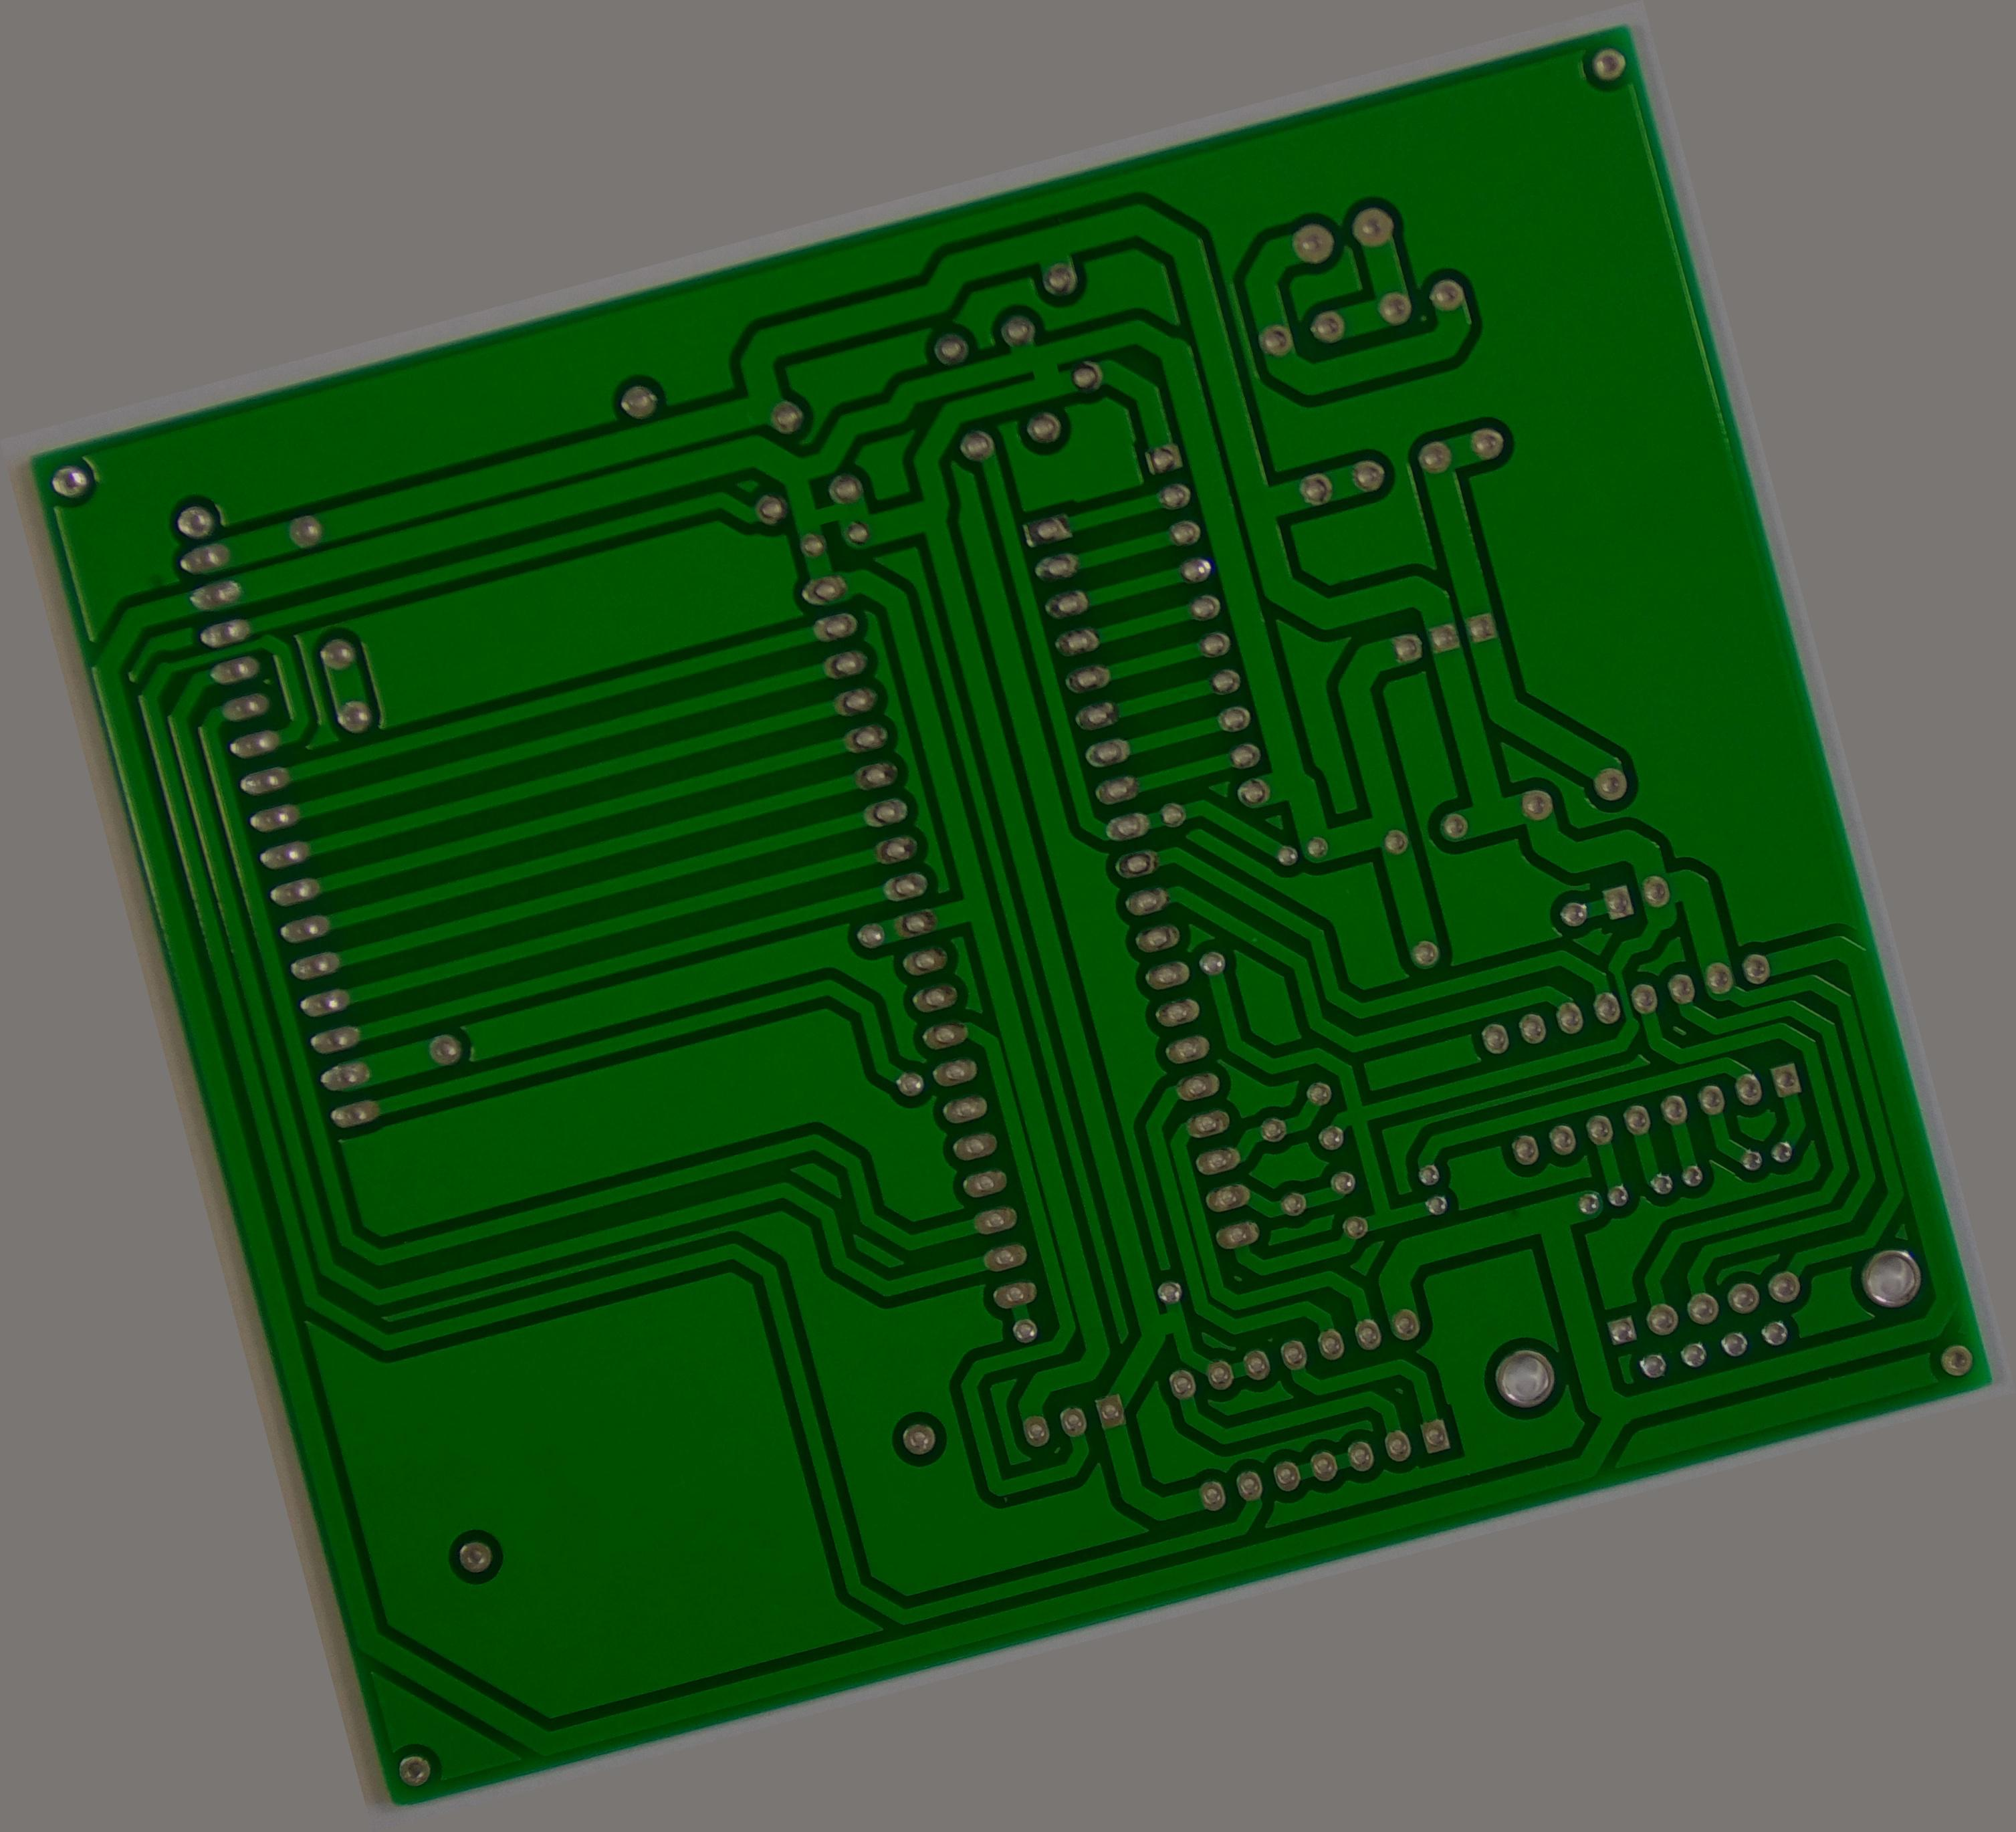short: (790, 483, 864, 546), (1013, 341, 1080, 406)
